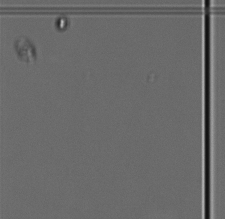Dead Cell: (13, 37, 36, 64)
Living Cell: (55, 15, 69, 33)
